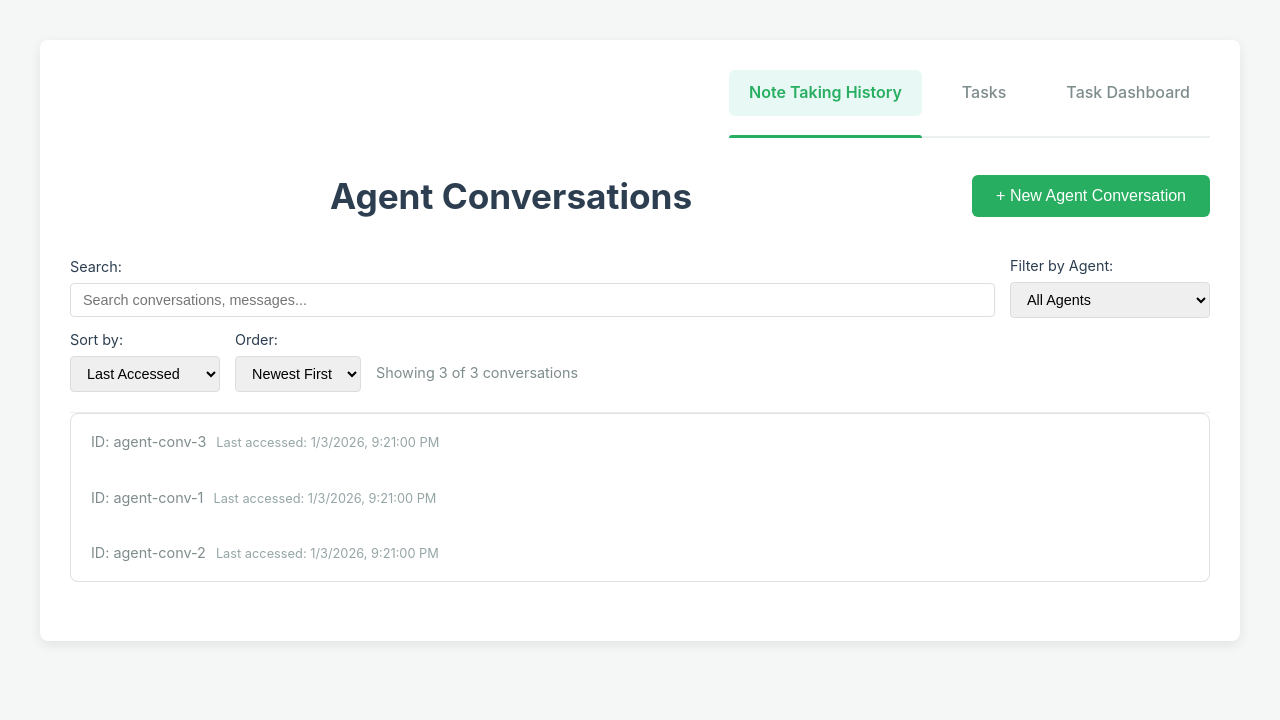
Scenario: AgentConversationListView › Filtering › Clear filters › resets both filters when Clear Filters is clicked
The width and height of the screenshot is (1280, 720).
Expected: the text "ID: agent-conv-1" is shown, [91,489,203,506]
// Apply both filters
Select "agent-A" in the dropdown labelled "Filter by Agent:" at (1110, 300), box [1010,282,1210,318]
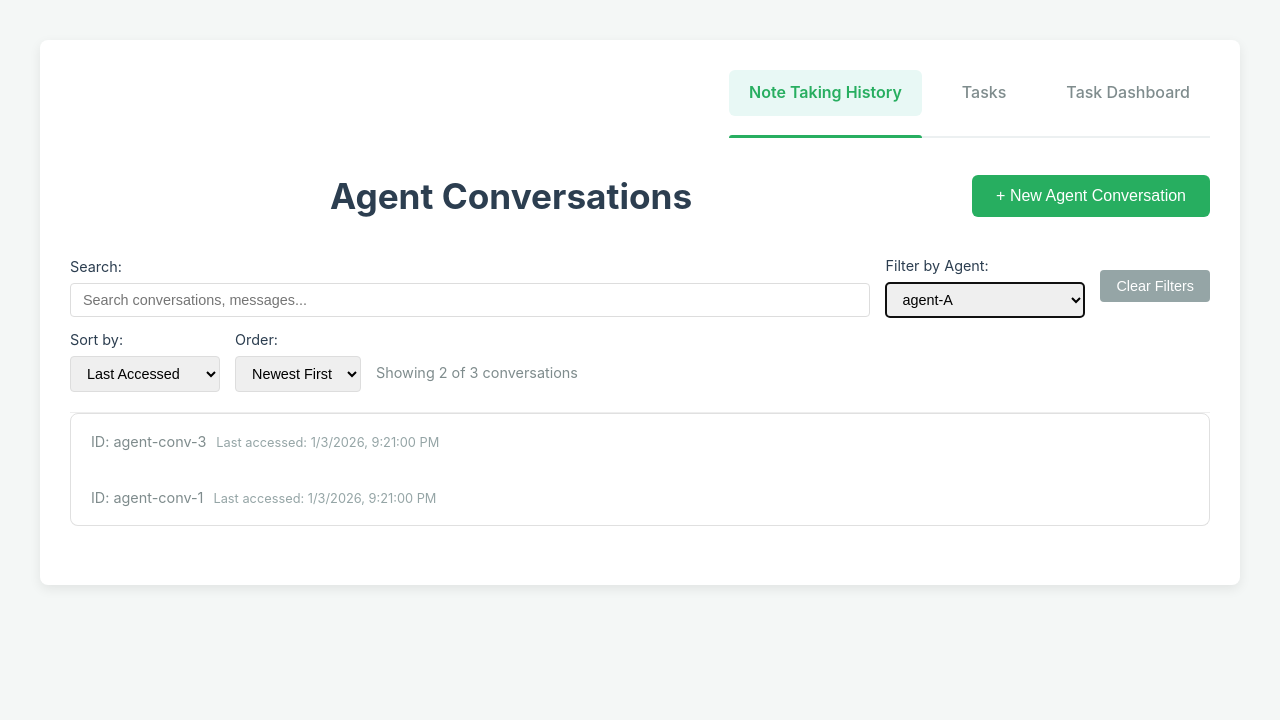
Type "test" into the field labelled "Search:" at (470, 300), box [70,283,870,317]
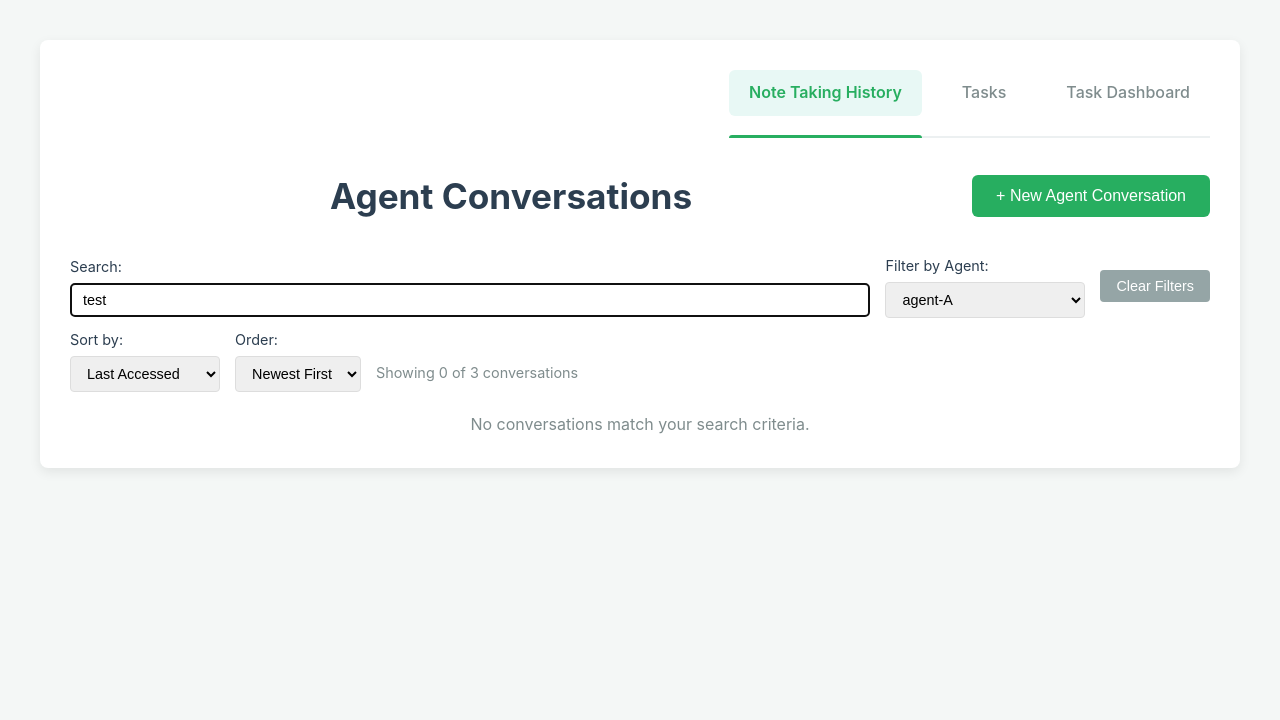
Now the button "Clear Filters" is shown
Click the button "Clear Filters" at (1155, 286), box [1100,270,1210,302]
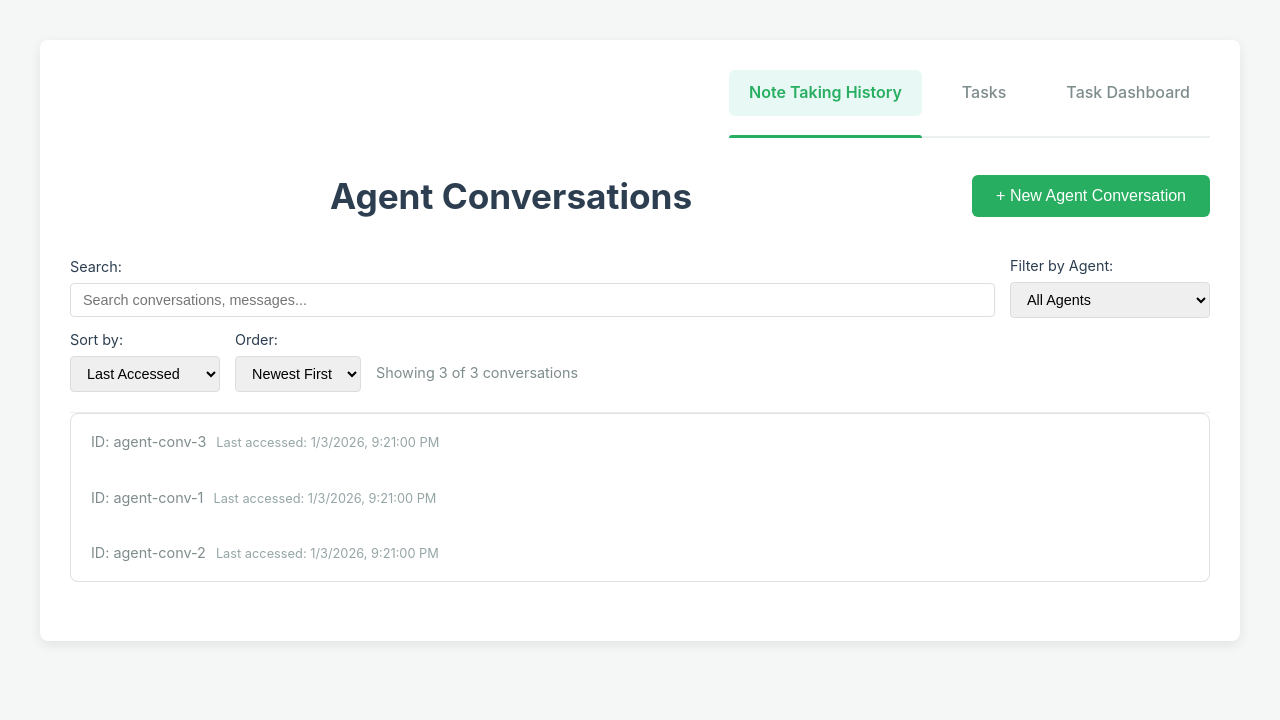
Now the field labelled "Search:" is empty, box [70,283,995,317]
Now the text "ID: agent-conv-1" is shown, box [91,489,203,506]
Now the text "ID: agent-conv-2" is shown, box [91,544,206,561]
